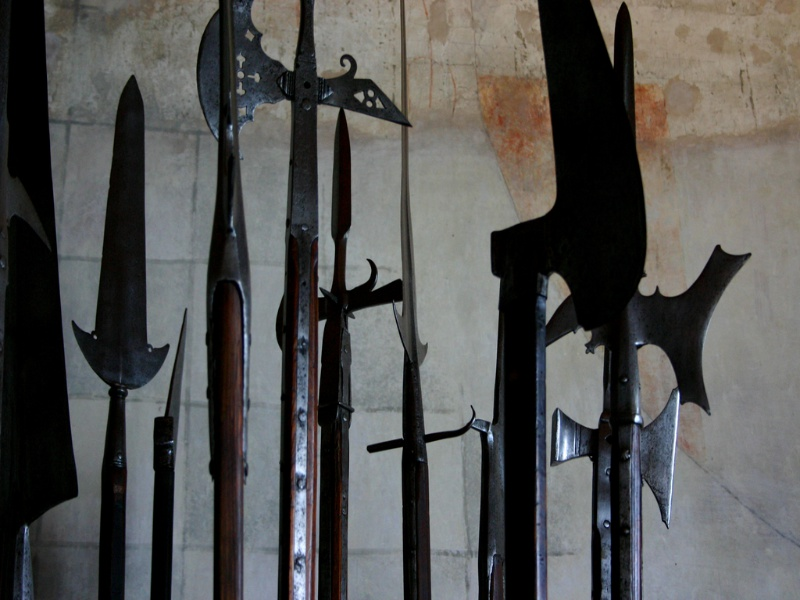axe: (191, 1, 426, 600), (491, 1, 638, 600), (537, 238, 760, 600), (60, 75, 176, 600), (548, 363, 691, 600)
